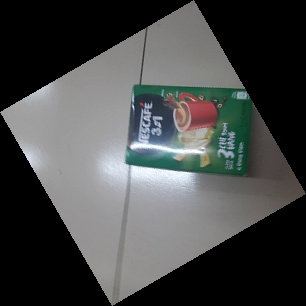Nes Rang: (123, 84, 254, 176)
